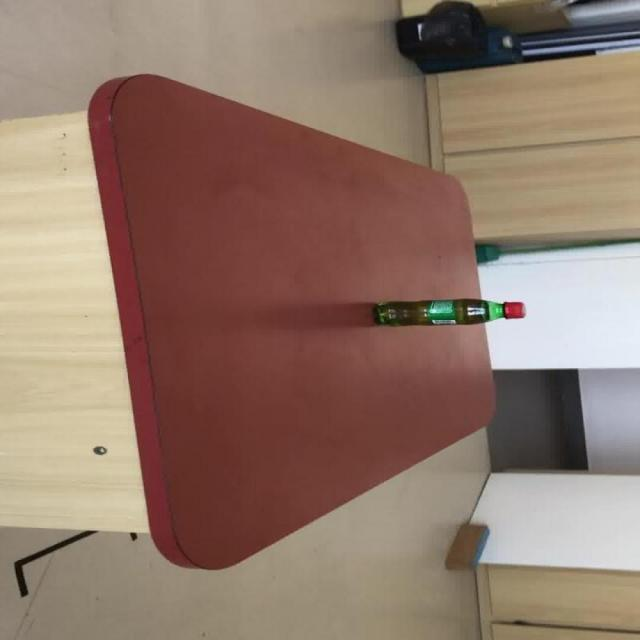Guarana: (371, 297, 525, 326)
